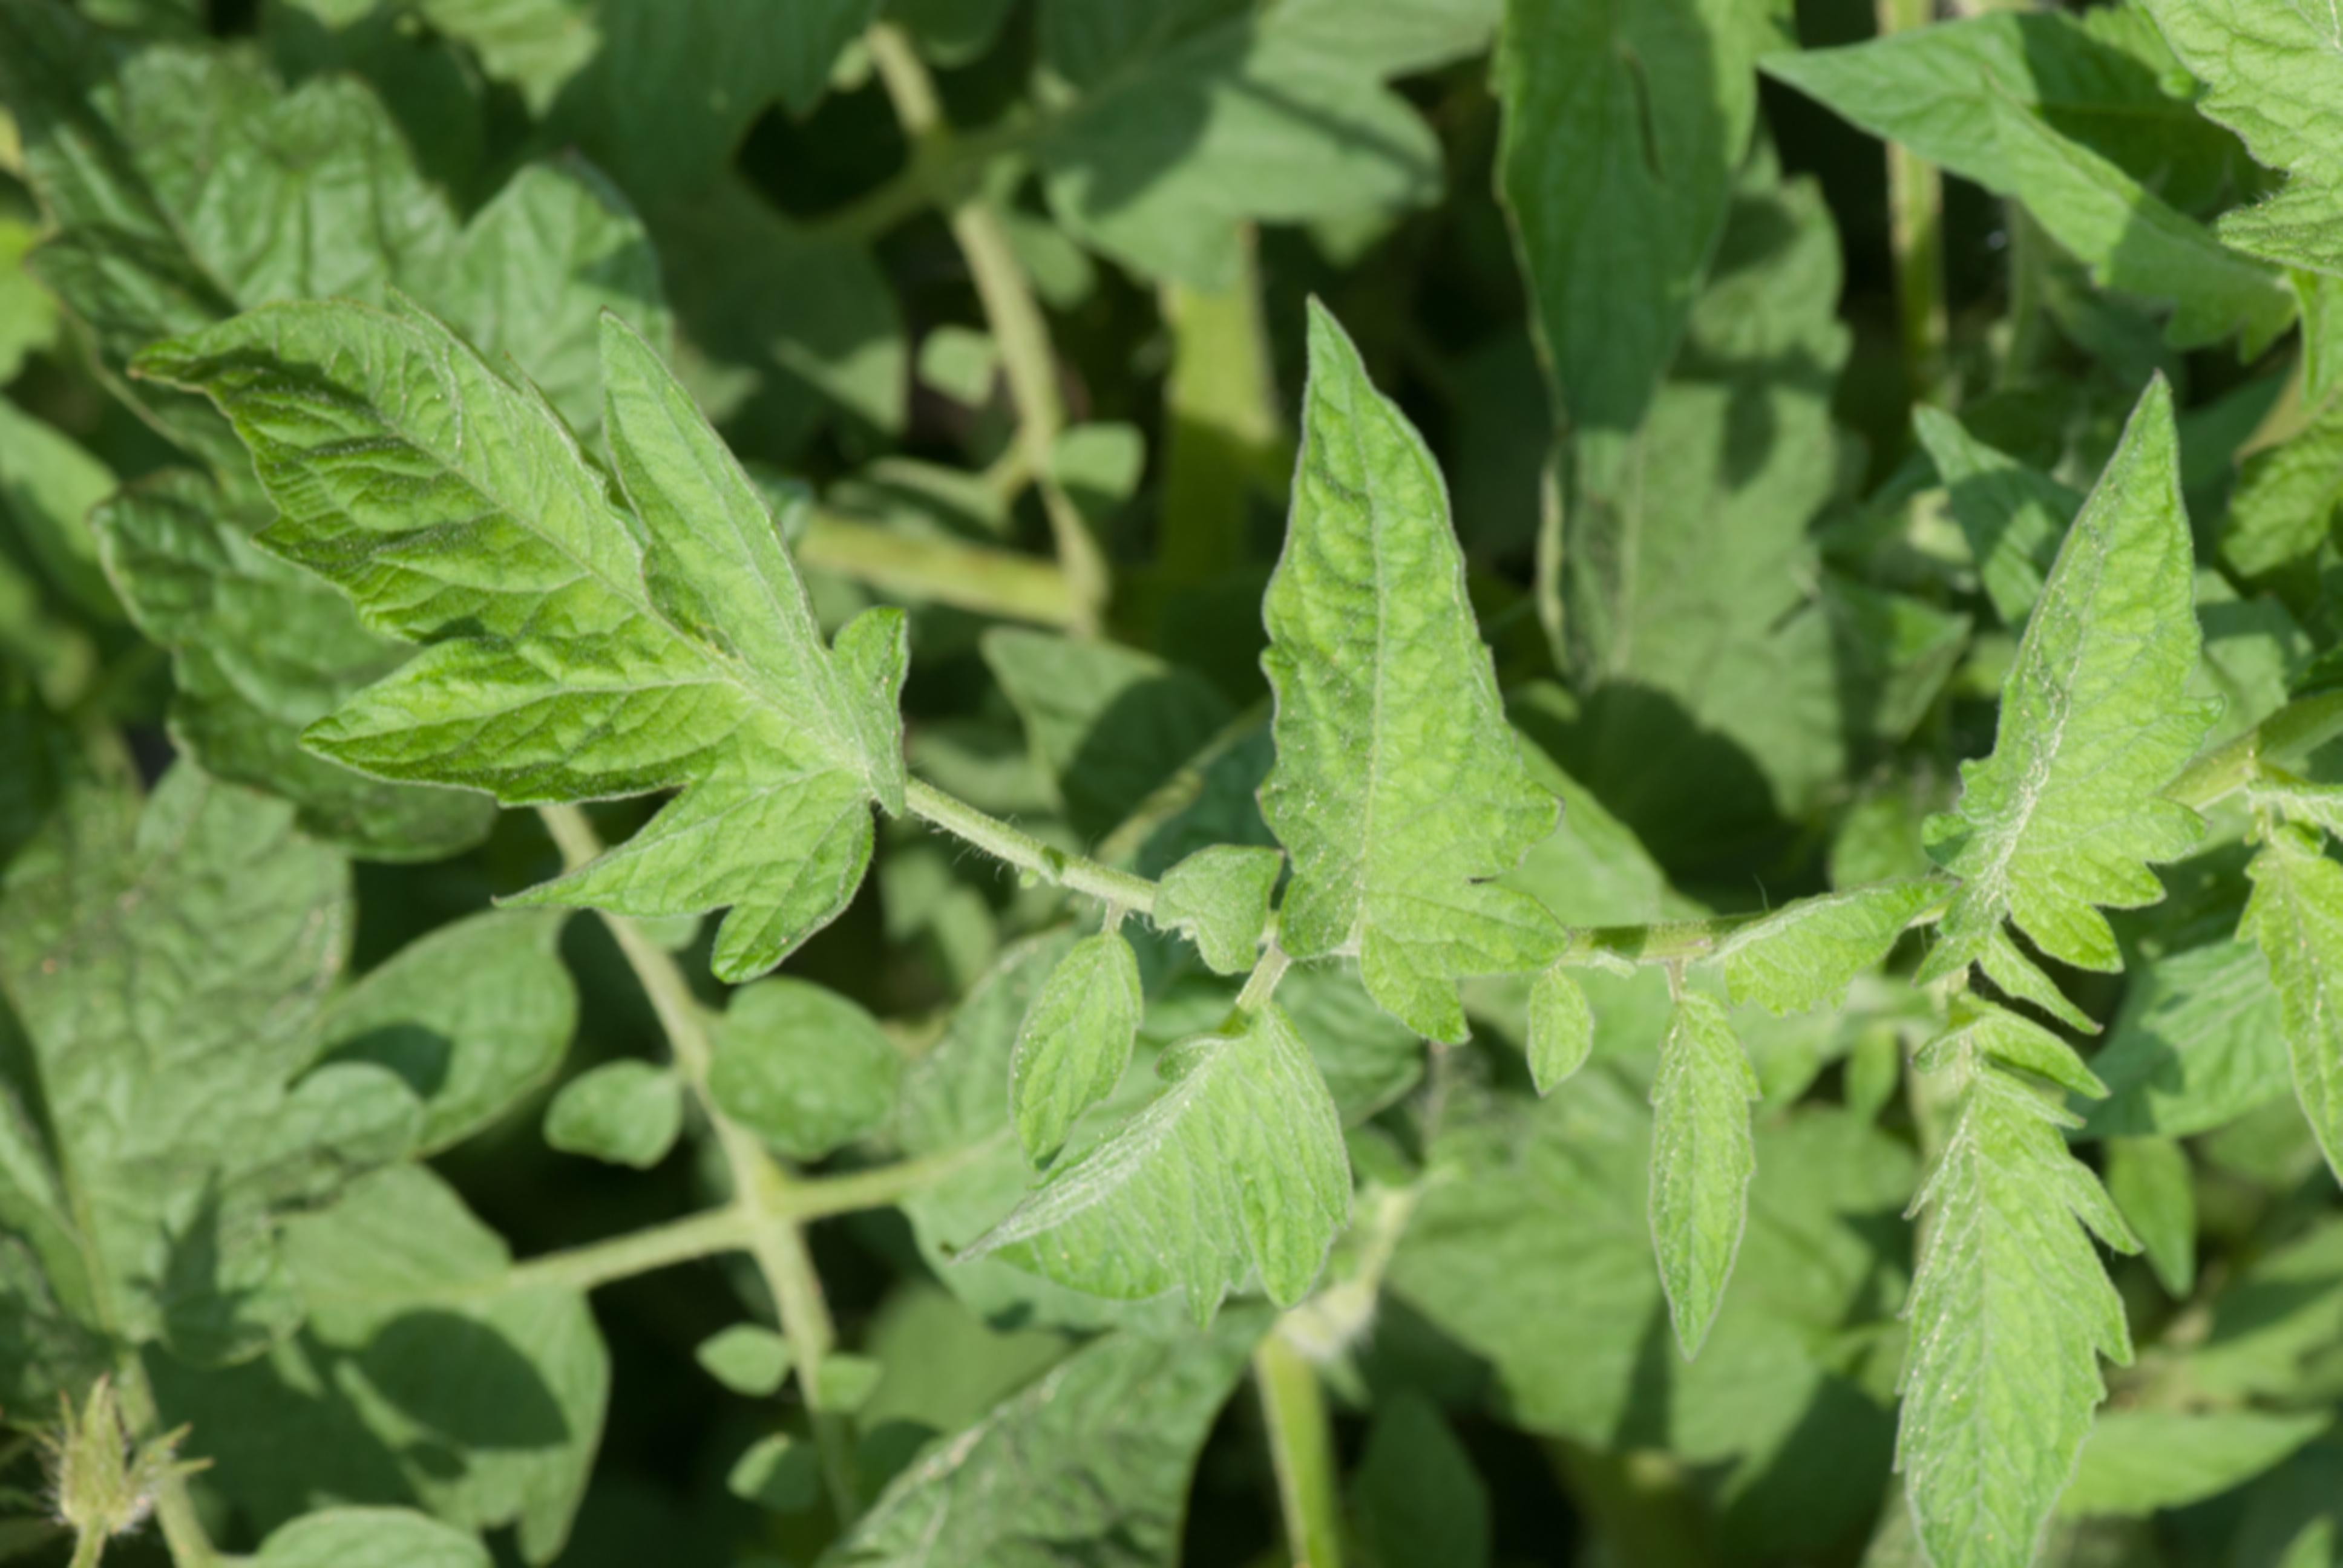Tomato leaf: (185, 278, 1073, 926), (1874, 325, 2296, 1032), (1260, 271, 1610, 1069), (934, 926, 1381, 1384)
